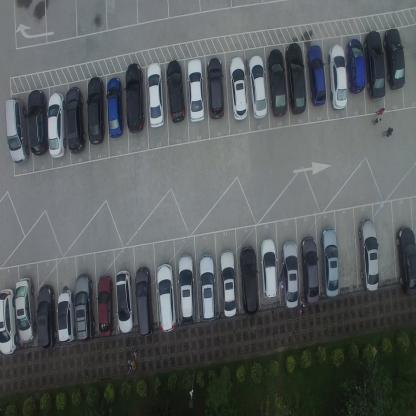car: (3, 96, 29, 164), (363, 29, 386, 100), (358, 218, 380, 292), (124, 60, 145, 135), (286, 41, 307, 115), (266, 48, 288, 118), (64, 86, 86, 154), (382, 26, 405, 90), (74, 273, 95, 342), (395, 225, 415, 297), (14, 277, 36, 342), (27, 88, 48, 156), (239, 245, 259, 316), (228, 55, 249, 122), (86, 76, 106, 146), (156, 262, 176, 332), (327, 44, 348, 110), (114, 269, 135, 333), (134, 267, 153, 337), (248, 54, 268, 120), (178, 253, 196, 326), (166, 58, 186, 123), (300, 236, 319, 304), (37, 283, 56, 351), (0, 288, 19, 356), (306, 43, 326, 107), (320, 227, 338, 298), (198, 252, 216, 322), (47, 92, 66, 158), (146, 60, 164, 128), (345, 37, 366, 95), (187, 57, 205, 124), (281, 239, 298, 309), (206, 56, 224, 122), (219, 249, 236, 318), (106, 76, 124, 139), (97, 274, 114, 340), (260, 237, 278, 298), (56, 289, 76, 342)
